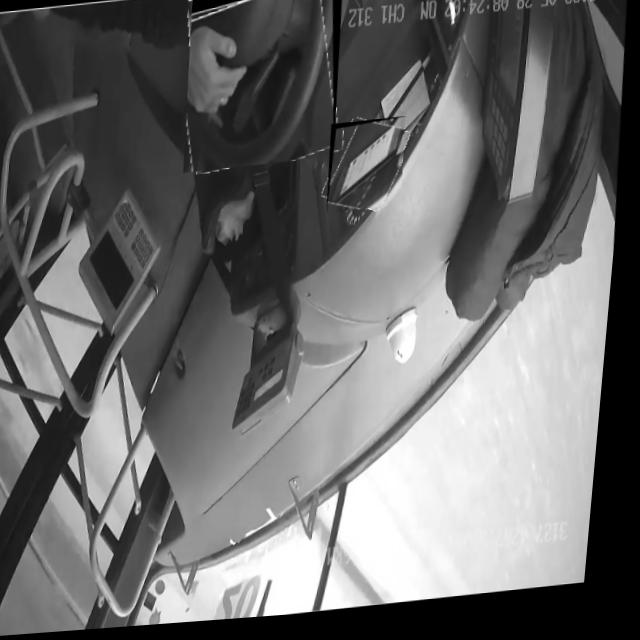phone: (326, 121, 409, 218)
wheel: (179, 0, 348, 175)
